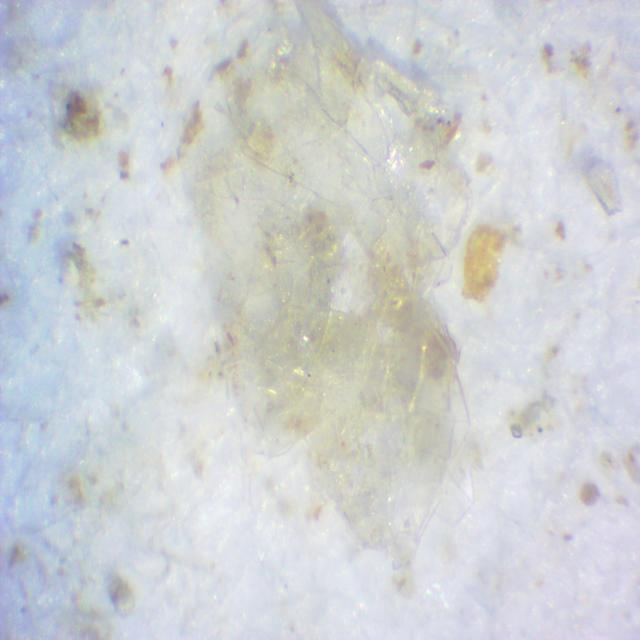microplastic: (182, 15, 481, 572)
